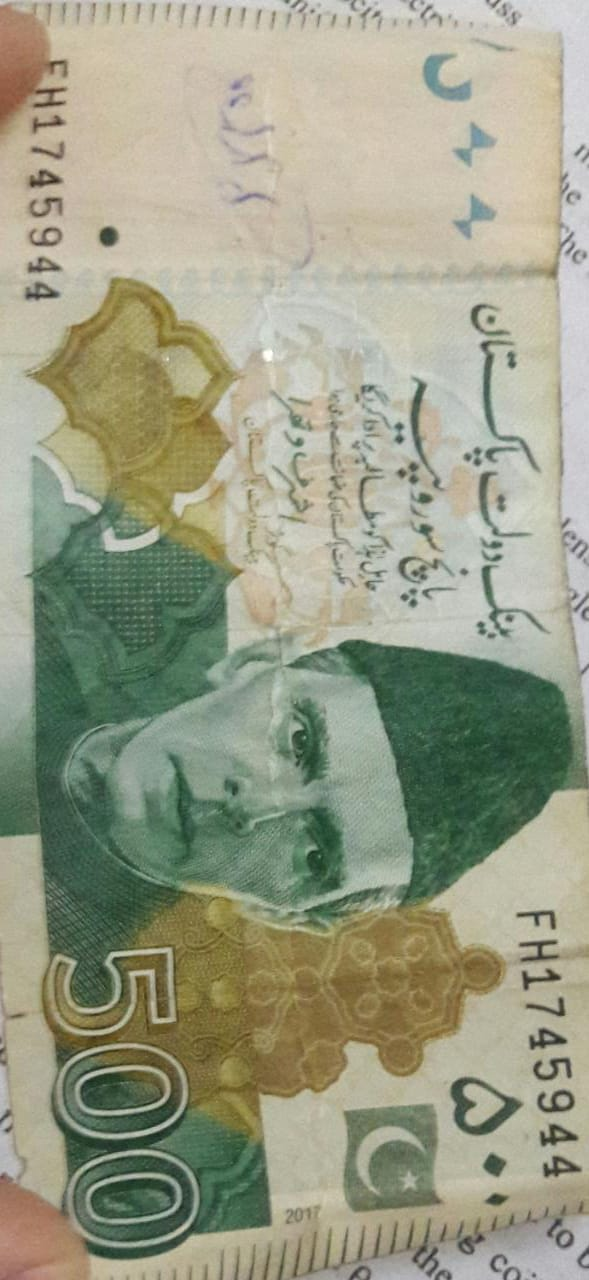500 rupee: (11, 16, 575, 1261)
